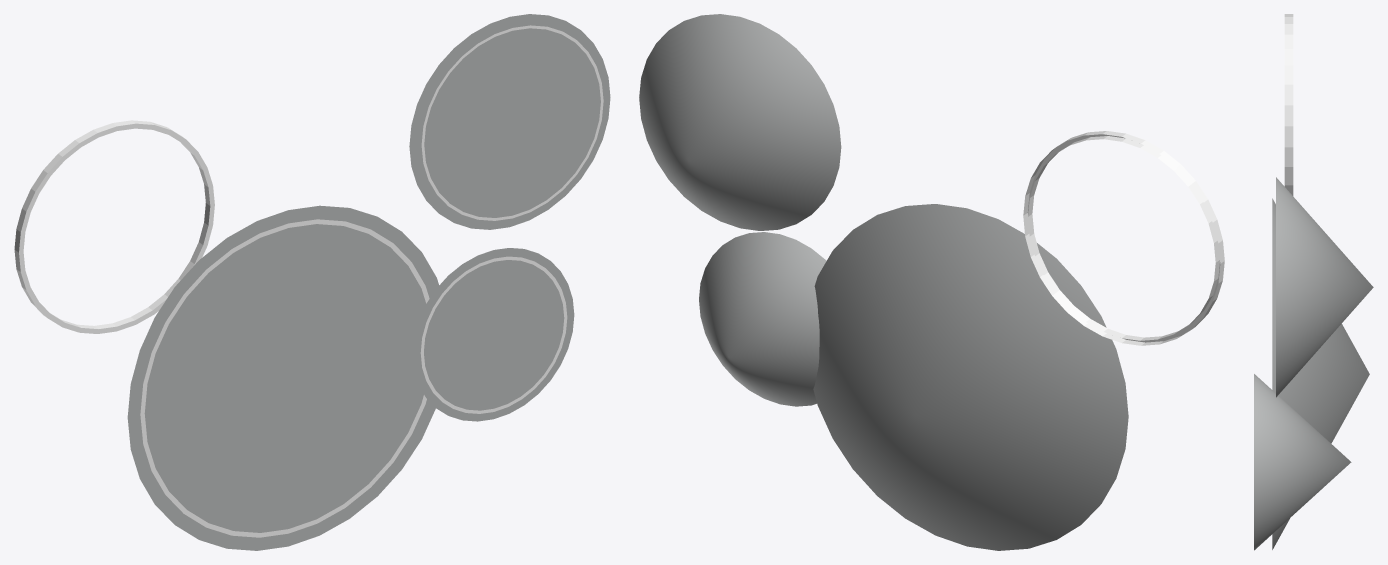
The model's file is M_zhuangshiqiang02.FBX.
3 renders of one model, left to right at view 1: azimuth 30°, elevation 25°; view 2: azimuth 150°, elevation 25°; view 3: azimuth 270°, elevation 25°, orthographic. The views are drawn at different scales.
Visible parts, largest first — view 1: M_zhuangshiqiang02_01, M_zhuangshiqiang02_02; view 2: M_zhuangshiqiang02_01, M_zhuangshiqiang02_02; view 3: M_zhuangshiqiang02_01, M_zhuangshiqiang02_02.
Boxes of the visible parts, x1,y1,x2,y2 form: M_zhuangshiqiang02_01: (127,14,610,550); M_zhuangshiqiang02_02: (14,25,603,537); M_zhuangshiqiang02_01: (639,14,1128,550); M_zhuangshiqiang02_02: (1023,131,1224,345); M_zhuangshiqiang02_01: (1254,177,1373,550); M_zhuangshiqiang02_02: (1284,14,1293,195).
Size of the model in its own units: 3.61 by 2.79 by 0.6741.
